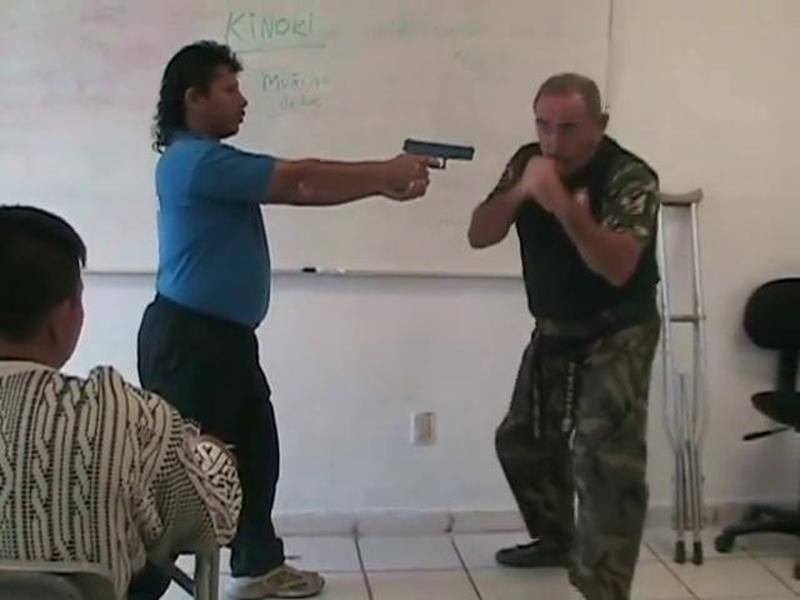Pistola: (402, 134, 485, 184)
